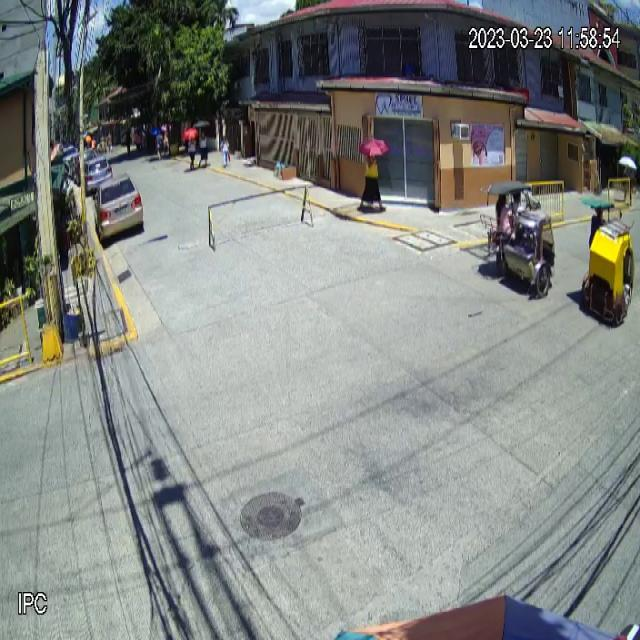Tricycle: (484, 178, 556, 296)
